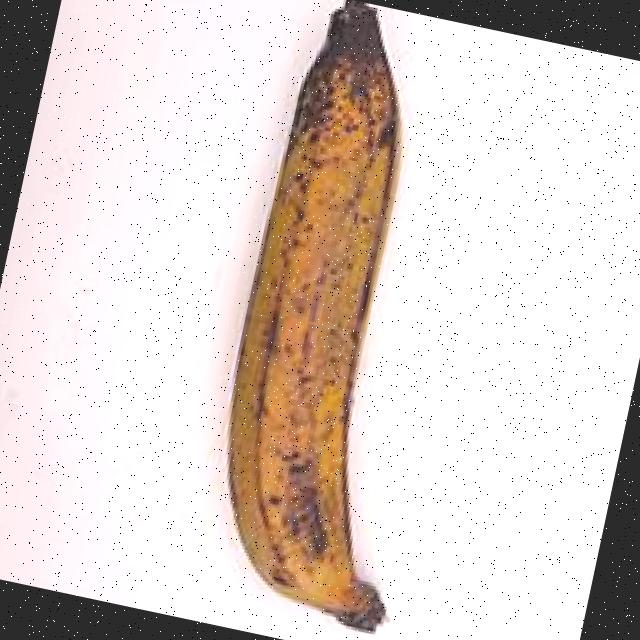Overripe: (130, 0, 540, 640)
